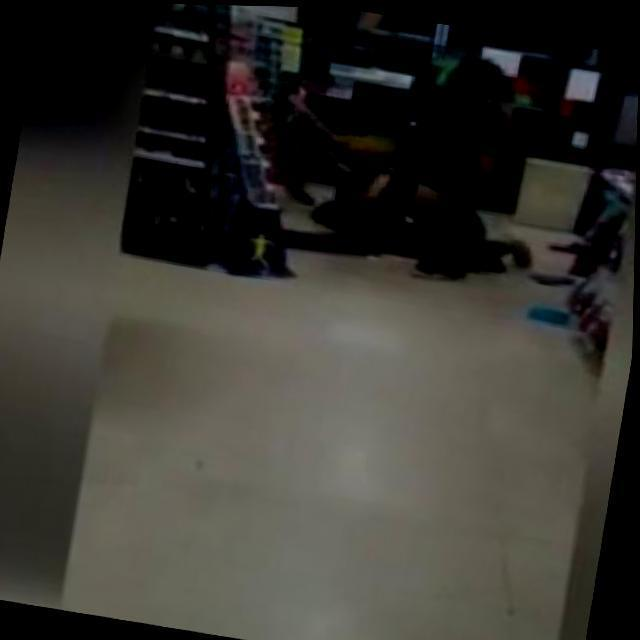fight: (306, 152, 552, 298)
